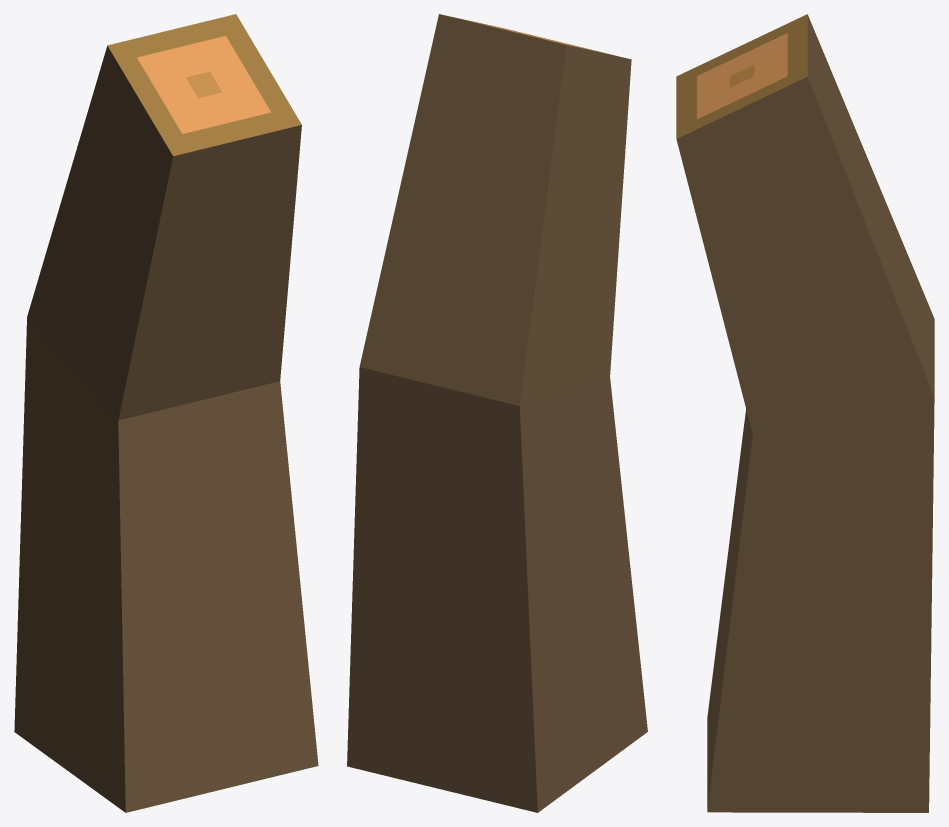
Rendered from Log_03.fbx.
The picture shows the model from 3 angles, left to right: view 1: azimuth 30°, elevation 25°; view 2: azimuth 150°, elevation 25°; view 3: azimuth 270°, elevation 25°; orthographic projection.
Visible parts, largest first — view 1: Log_03; view 2: Log_03; view 3: Log_03.
Part boxes in pixels (x1=…): Log_03: x1=14, y1=14, x2=318, y2=812; Log_03: x1=347, y1=14, x2=647, y2=812; Log_03: x1=676, y1=14, x2=934, y2=812.
Size of the model in its own units: 0.4832 by 1.73 by 0.5624.
